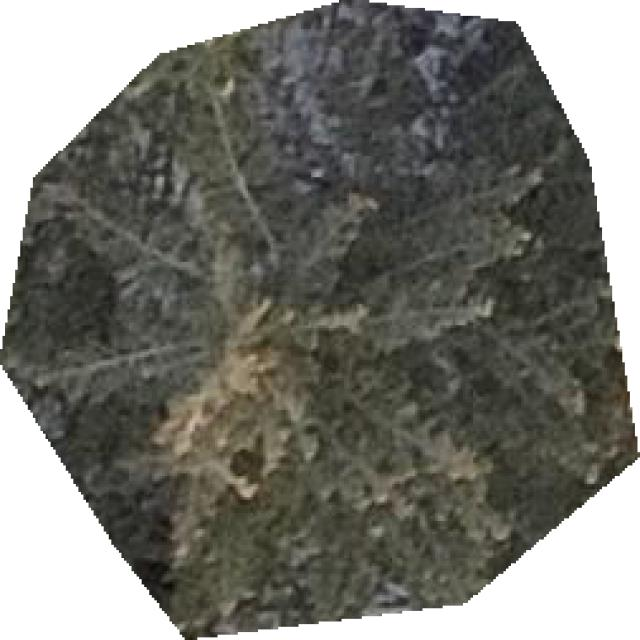spruce: (0, 0, 637, 637)
